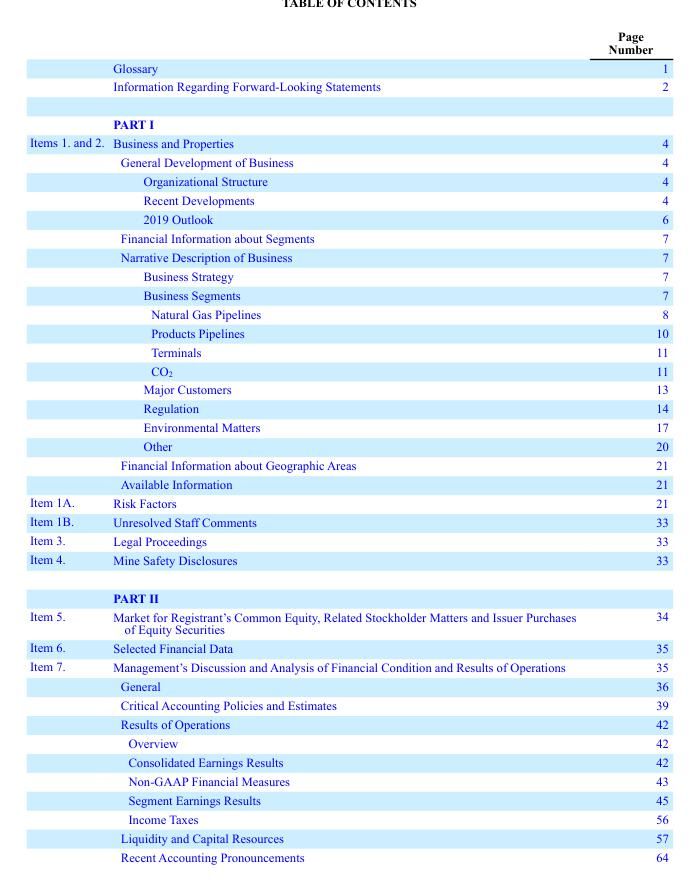table: (28, 28, 667, 863)
table column: (107, 28, 591, 863), (28, 28, 107, 863), (591, 28, 667, 863)
table column header: (28, 28, 667, 132)
table row: (28, 28, 667, 132), (28, 606, 667, 638), (28, 549, 667, 578), (28, 578, 667, 606), (28, 132, 667, 152), (28, 360, 667, 380), (28, 656, 667, 676), (28, 152, 667, 171), (28, 171, 667, 190), (28, 190, 667, 209), (28, 209, 667, 228), (28, 228, 667, 247), (28, 247, 667, 266), (28, 266, 667, 285), (28, 303, 667, 322), (28, 322, 667, 341), (28, 341, 667, 360), (28, 398, 667, 417), (28, 417, 667, 436), (28, 436, 667, 455), (28, 455, 667, 474), (28, 492, 667, 511), (28, 511, 667, 530), (28, 530, 667, 549), (28, 676, 667, 695), (28, 695, 667, 714), (28, 714, 667, 733), (28, 733, 667, 752), (28, 752, 667, 771), (28, 771, 667, 790), (28, 790, 667, 809), (28, 827, 667, 846), (28, 285, 667, 303), (28, 380, 667, 398), (28, 474, 667, 492), (28, 638, 667, 656), (28, 809, 667, 827), (28, 846, 667, 863)
table spanning cell: (28, 132, 107, 492), (28, 656, 107, 863), (28, 549, 107, 606)
